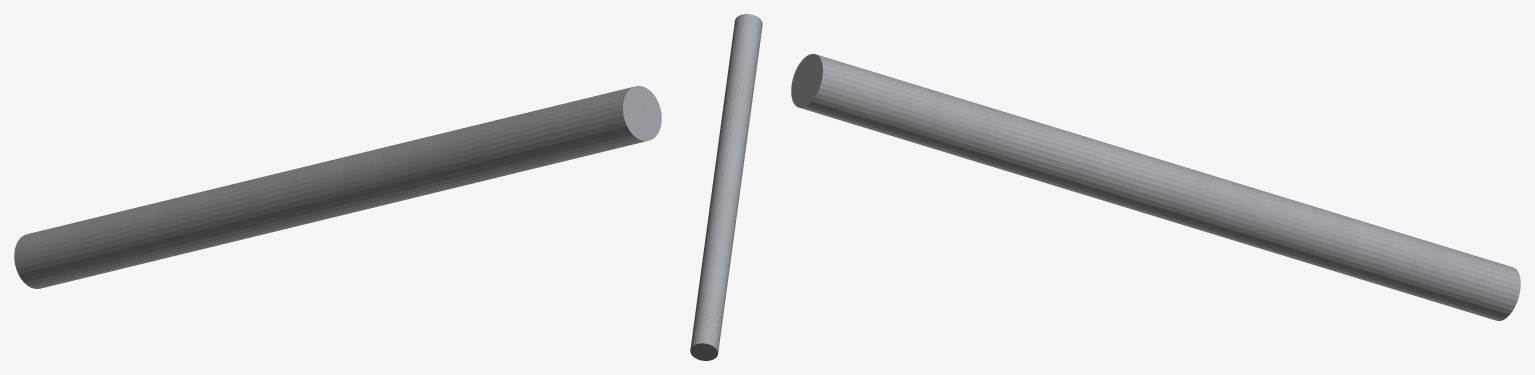
The model's file is mhw_culturalibre_hero_kalistick.glb.
The picture shows the model from 3 angles, left to right: view 1: azimuth 30°, elevation 25°; view 2: azimuth 150°, elevation 25°; view 3: azimuth 270°, elevation 25°; orthographic projection. The views are drawn at different scales.
Parts seen in each view (by area): view 1: mhw_culturalibre_hero_kalistick; view 2: mhw_culturalibre_hero_kalistick; view 3: mhw_culturalibre_hero_kalistick.
Part boxes in pixels (x1,y1,x2,y2): mhw_culturalibre_hero_kalistick: [14, 86, 661, 288]; mhw_culturalibre_hero_kalistick: [690, 14, 762, 360]; mhw_culturalibre_hero_kalistick: [791, 54, 1520, 320].
Size of the model in its own units: 0.2009 by 0.2426 by 0.4161.
1 material, 1 textured.
